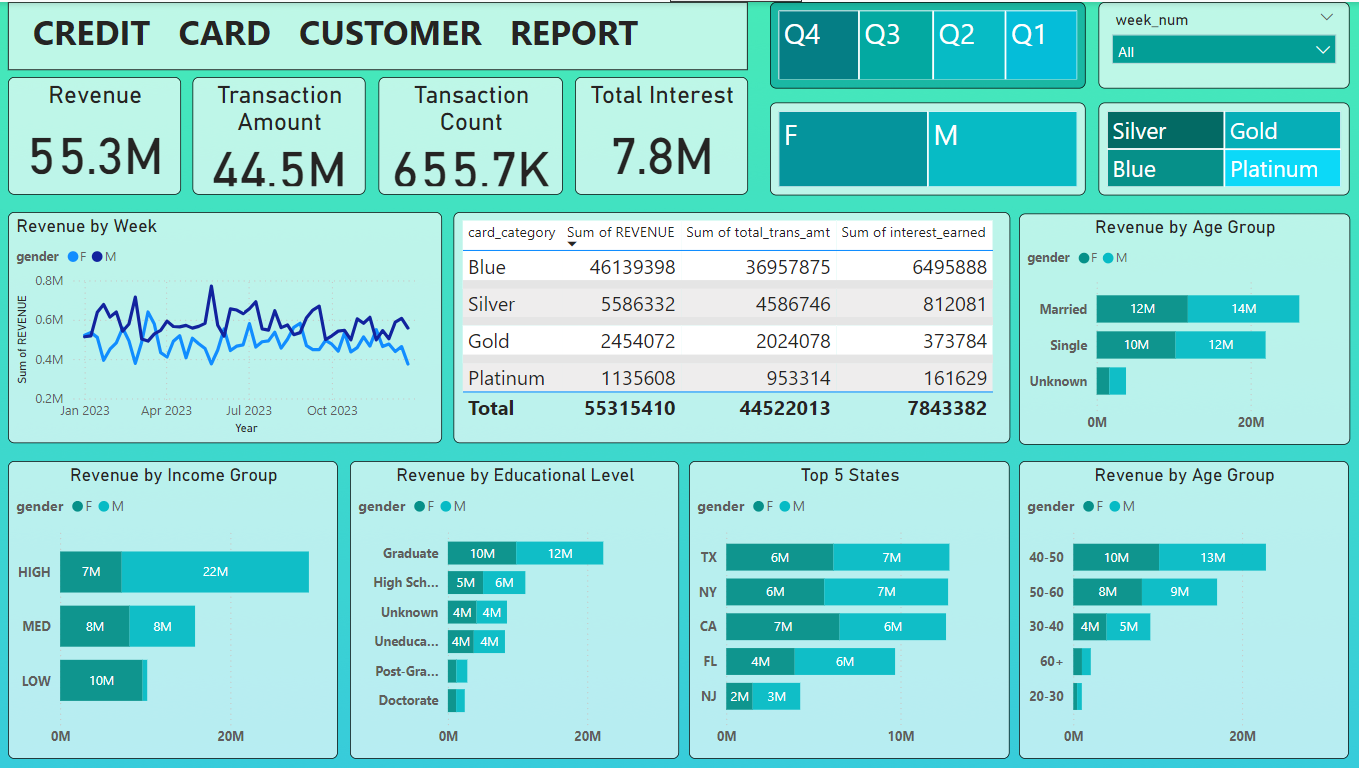

The page's visual inventory and layout, read from the dashboard file:
{"tool":"powerbi","page":{"name":"CREDIT CARD CUSTOMER REPORT","canvas":[1280,720],"ordinal":2},"visuals":[{"type":"textbox","box":[7.8,0,695.5,64.1],"z":0},{"type":"barChart","title":"Revenue by Income Group","fields":{"Y":["Sum(public cc_detail.REVENUE)"],"Category":["public cust_detail.Income Group"],"Series":["public cust_detail.gender"]},"box":[7.8,431.4,310,280],"z":1000},{"type":"card","title":"Revenue","fields":{"Values":["Sum(public cc_detail.REVENUE)"]},"box":[7.8,70.3,162.6,111],"z":2000},{"type":"card","title":"Transaction Amount","fields":{"Values":["Sum(public cc_detail.total_trans_amt)"]},"box":[181.3,70.3,162.6,111],"z":3000},{"type":"card","title":"Tansaction Count","fields":{"Values":["Sum(public cc_detail.total_trans_vol)"]},"box":[356.4,70.3,173.5,111],"z":4000},{"type":"card","title":"Total Interest","fields":{"Values":["Sum(public cc_detail.interest_earned)"]},"box":[540.8,70.3,162.6,111],"z":5000},{"type":"slicer","fields":{"Values":["public cc_detail.week_num"]},"box":[1033.1,0,236,81.3],"z":6000},{"type":"treemap","fields":{"Group":["public cc_detail.qtr"],"Values":["Avg(public cc_detail.client_num)"]},"box":[725.2,0,297,81.3],"z":7000},{"type":"treemap","fields":{"Group":["public cust_detail.gender"],"Values":["Avg(public cc_detail.client_num)"]},"box":[725.2,93.8,297,87.5],"z":8000},{"type":"treemap","fields":{"Group":["public cc_detail.card_category"],"Values":["Avg(public cc_detail.client_num)"]},"box":[1033.1,93.8,236,87.5],"z":9000},{"type":"tableEx","fields":{"Values":["public cc_detail.card_category","Sum(public cc_detail.REVENUE)","Sum(public cc_detail.total_trans_amt)","Sum(public cc_detail.interest_earned)"]},"box":[426.7,196.9,523.6,217.3],"z":10000},{"type":"barChart","title":"Revenue by Educational Level","fields":{"Y":["Sum(public cc_detail.REVENUE)"],"Category":["public cust_detail.education_level"],"Series":["public cust_detail.gender"]},"box":[329.8,431.4,309.5,279.8],"z":11000},{"type":"barChart","title":"Top 5 States","fields":{"Y":["Sum(public cc_detail.REVENUE)"],"Category":["public cust_detail.state_cd"],"Series":["public cust_detail.gender"]},"box":[648.6,431.4,301.7,279.8],"z":12000},{"type":"barChart","title":"Revenue by Age Group","fields":{"Y":["Sum(public cc_detail.REVENUE)"],"Category":["public cust_detail.Age Group"],"Series":["public cust_detail.gender"]},"box":[958.1,431.4,310,280],"z":13000},{"type":"lineChart","title":"Revenue by Week","fields":{"Y":["Sum(public cc_detail.REVENUE)"],"Series":["public cust_detail.gender"],"Category":["public cc_detail.week_start_date.Variation.Date Hierarchy.Year","public cc_detail.week_start_date.Variation.Date Hierarchy.Quarter","public cc_detail.week_start_date.Variation.Date Hierarchy.Month","public cc_detail.week_start_date.Variation.Date Hierarchy.Day"]},"box":[7.8,196.9,407.9,217.3],"z":14000},{"type":"barChart","title":"Revenue by Age Group","fields":{"Y":["Sum(public cc_detail.REVENUE)"],"Category":["public cust_detail.marital_status"],"Series":["public cust_detail.gender"]},"box":[958.1,198.5,311,217.3],"z":15000}]}

Visuals, with their boxes in screenshot pixels (x1, y1, x2, y2), scaled from the page's 1280x720 canvas onto the 1359x768 screenshot:
textbox: {"left": 8, "top": 0, "right": 747, "bottom": 68}
"Revenue by Income Group" barChart: {"left": 8, "top": 460, "right": 337, "bottom": 759}
"Revenue" card: {"left": 8, "top": 75, "right": 181, "bottom": 193}
"Transaction Amount" card: {"left": 192, "top": 75, "right": 365, "bottom": 193}
"Tansaction Count" card: {"left": 378, "top": 75, "right": 563, "bottom": 193}
"Total Interest" card: {"left": 574, "top": 75, "right": 747, "bottom": 193}
slicer - public cc_detail.week_num: {"left": 1097, "top": 0, "right": 1347, "bottom": 87}
treemap - public cc_detail.qtr x Avg(public cc_detail.client_num): {"left": 770, "top": 0, "right": 1085, "bottom": 87}
treemap - public cust_detail.gender x Avg(public cc_detail.client_num): {"left": 770, "top": 100, "right": 1085, "bottom": 193}
treemap - public cc_detail.card_category x Avg(public cc_detail.client_num): {"left": 1097, "top": 100, "right": 1347, "bottom": 193}
tableEx - public cc_detail.card_category x Sum(public cc_detail.REVENUE): {"left": 453, "top": 210, "right": 1009, "bottom": 442}
"Revenue by Educational Level" barChart: {"left": 350, "top": 460, "right": 679, "bottom": 759}
"Top 5 States" barChart: {"left": 689, "top": 460, "right": 1009, "bottom": 759}
"Revenue by Age Group" barChart: {"left": 1017, "top": 460, "right": 1346, "bottom": 759}
"Revenue by Week" lineChart: {"left": 8, "top": 210, "right": 441, "bottom": 442}
"Revenue by Age Group" barChart: {"left": 1017, "top": 212, "right": 1347, "bottom": 444}
